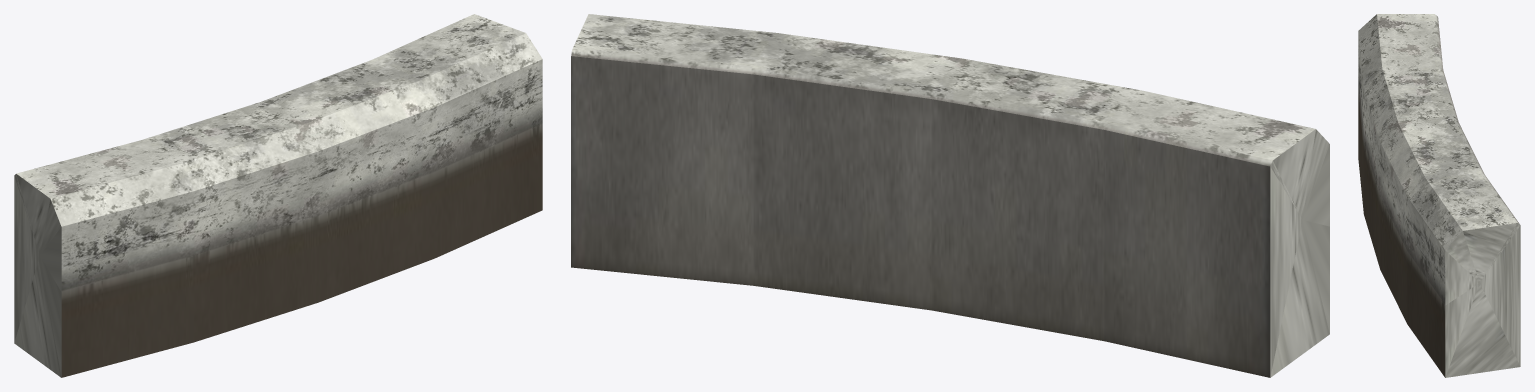
Rendered from curb_curve_r3_white_lod1_web.glb.
The picture shows the model from 3 angles, left to right: view 1: azimuth 30°, elevation 25°; view 2: azimuth 150°, elevation 25°; view 3: azimuth 270°, elevation 25°; orthographic projection. The views are drawn at different scales.
Visible parts, largest first — view 1: curb_curve_r3_white_Mesh; view 2: curb_curve_r3_white_Mesh; view 3: curb_curve_r3_white_Mesh.
Boxes of the visible parts, x1,y1,x2,y2 form: curb_curve_r3_white_Mesh: (14, 14, 542, 377); curb_curve_r3_white_Mesh: (571, 14, 1329, 377); curb_curve_r3_white_Mesh: (1358, 14, 1520, 377).
Size of the model in its own units: 0.9769 by 0.3 by 0.3053.
Materials: 1 (1 with a texture image).
